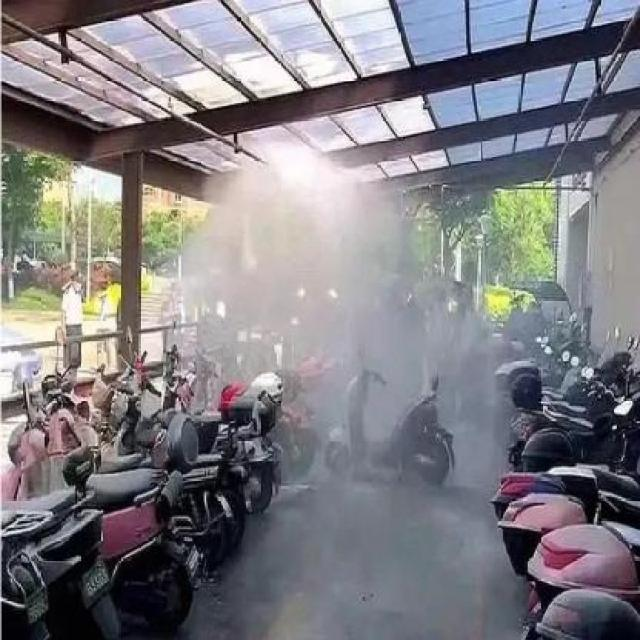Smoke: (215, 148, 422, 381)
